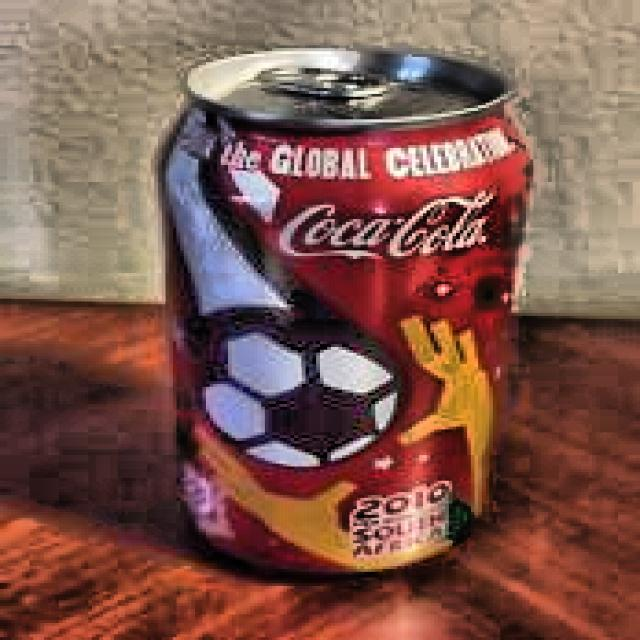Cans: (116, 35, 556, 585)
